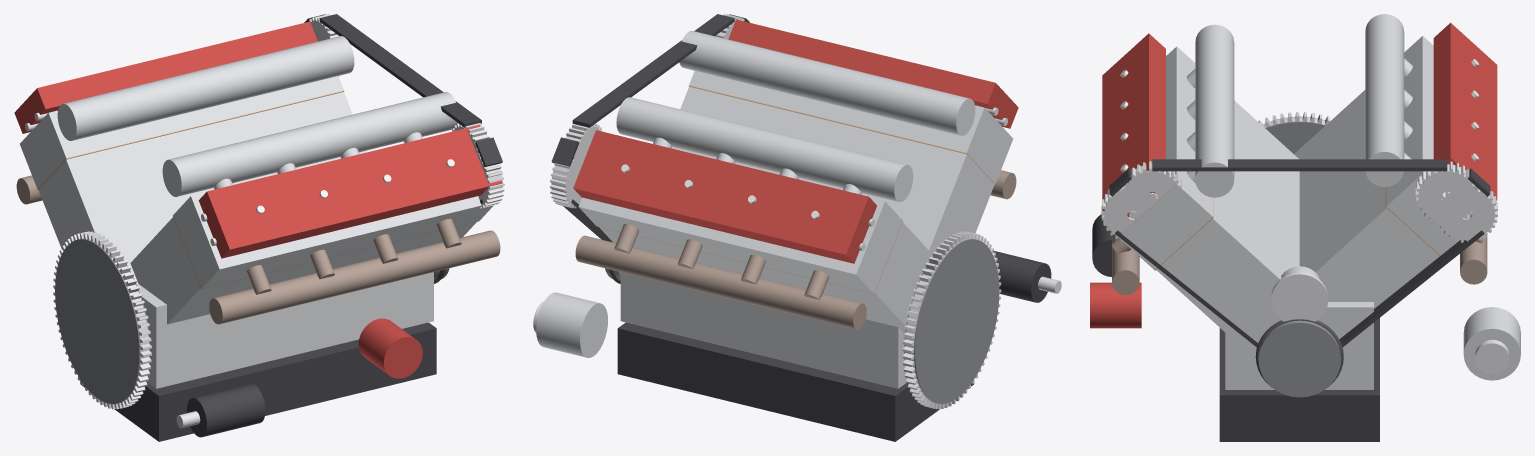
File: combustion_8_v_90p0_8p6_8p6_dohc_4_no_correa_nafta.glb
The picture shows the model from 3 angles, left to right: view 1: azimuth 30°, elevation 25°; view 2: azimuth 150°, elevation 25°; view 3: azimuth 270°, elevation 25°; orthographic projection.
Parts seen in each view (by area): view 1: bloque, tapa_valvulas_1, volante_inercia, multiple_admision_0, multiple_admision_1, carter, multiple_escape_1, culata_1, tapa_valvulas_0, culata_0, distribucion_correa, motor_arranque (+4 smaller); view 2: bloque, tapa_valvulas_0, carter, volante_inercia, multiple_admision_0, multiple_admision_1, multiple_escape_0, culata_0, culata_1, tapa_valvulas_1, distribucion_correa, alternador (+4 smaller); view 3: bloque, carter, tapa_valvulas_0, tapa_valvulas_1, distribucion_poleas, culata_1, distribucion_correa, multiple_admision_1, multiple_admision_0, polea_ciguenal, culata_0, alternador (+6 smaller).
Part boxes in pixels (box(x1,y1,x2,y2)): bloque: box(38, 92, 476, 388); tapa_valvulas_1: box(198, 125, 502, 258); volante_inercia: box(53, 231, 151, 409); multiple_admision_0: box(57, 36, 354, 140); multiple_admision_1: box(162, 92, 458, 196); carter: box(80, 322, 436, 441); multiple_escape_1: box(209, 218, 500, 324); culata_1: box(173, 192, 493, 288); tapa_valvulas_0: box(14, 21, 317, 133); culata_0: box(20, 76, 343, 189); distribucion_correa: box(304, 14, 502, 204); motor_arranque: box(176, 383, 265, 437); bloque: box(599, 86, 994, 388); tapa_valvulas_0: box(573, 130, 876, 263); carter: box(617, 322, 974, 441); volante_inercia: box(902, 231, 1001, 409); multiple_admision_0: box(616, 97, 913, 201); multiple_admision_1: box(679, 31, 975, 135); multiple_escape_0: box(575, 224, 866, 329); culata_0: box(578, 197, 902, 293); culata_1: box(689, 71, 1013, 183); tapa_valvulas_1: box(728, 19, 1018, 128); distribucion_correa: box(551, 14, 749, 242); alternador: box(533, 292, 607, 357); bloque: box(1156, 90, 1439, 389); carter: box(1219, 318, 1379, 441); tapa_valvulas_0: box(1433, 22, 1497, 200); tapa_valvulas_1: box(1102, 33, 1165, 217); distribucion_poleas: box(1101, 161, 1497, 242); culata_1: box(1118, 46, 1213, 269); distribucion_correa: box(1109, 159, 1490, 347); multiple_admision_1: box(1186, 24, 1234, 197); multiple_admision_0: box(1365, 14, 1412, 186); polea_ciguenal: box(1255, 319, 1343, 397); culata_0: box(1386, 36, 1460, 255); alternador: box(1463, 307, 1520, 380).
Bounding box in the file's own units: 60.54 × 47.24 × 64.76.
